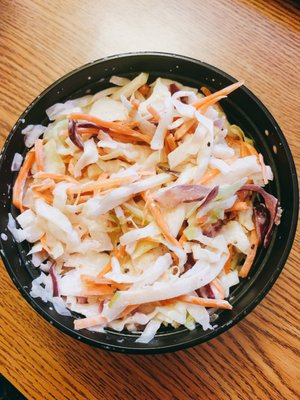curry: (0, 2, 300, 375), (1, 1, 299, 303)
